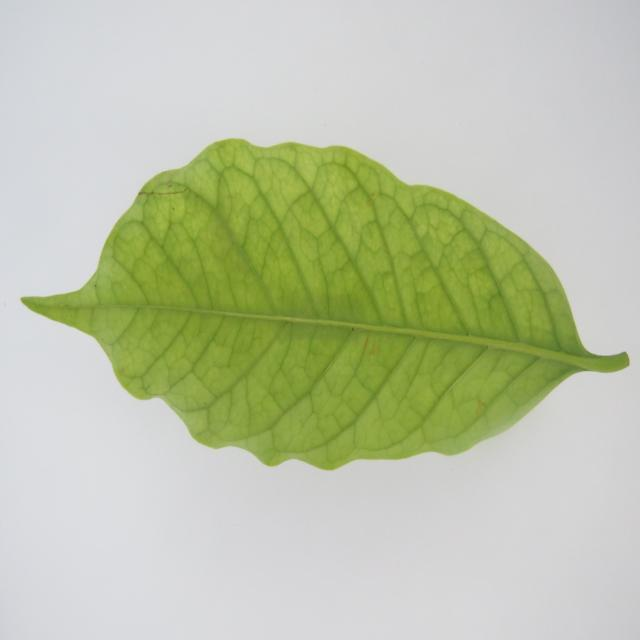DeficienciaNutricional-Calcio: (22, 140, 629, 468)
